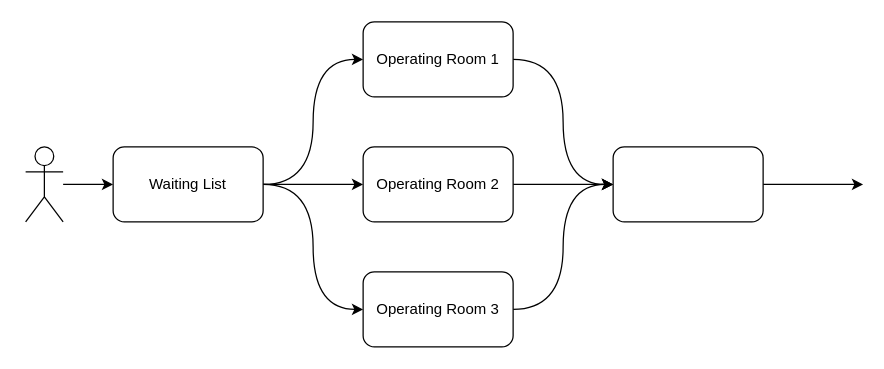
The diagram is 884 pixels wide and 369 high, and some of its shapes have lost their labels. Each missing label, with the centre of its shape:
"Patient" belongs at (x=43, y=184).
"Ward" belongs at (x=687, y=184).
